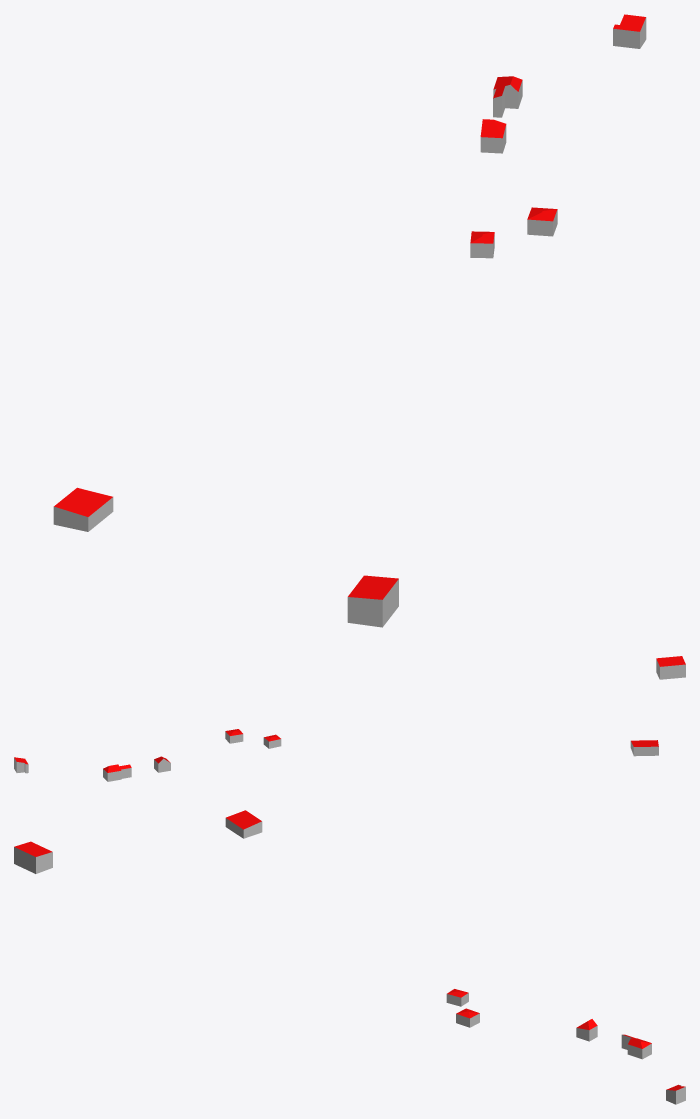
The picture shows the model from 3 angles, top to bottom: view 1: azimuth 30°, elevation 25°; view 2: azimuth 150°, elevation 25°; view 3: azimuth 270°, elevation 25°; orthographic projection. The views are drawn at different scales.
Bounding box in the file's own units: 168 × 4.72 × 168.
